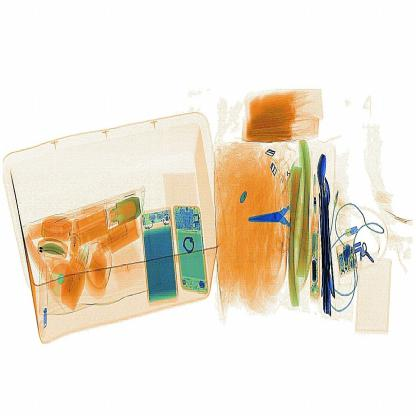gun: (246, 191, 315, 243)
